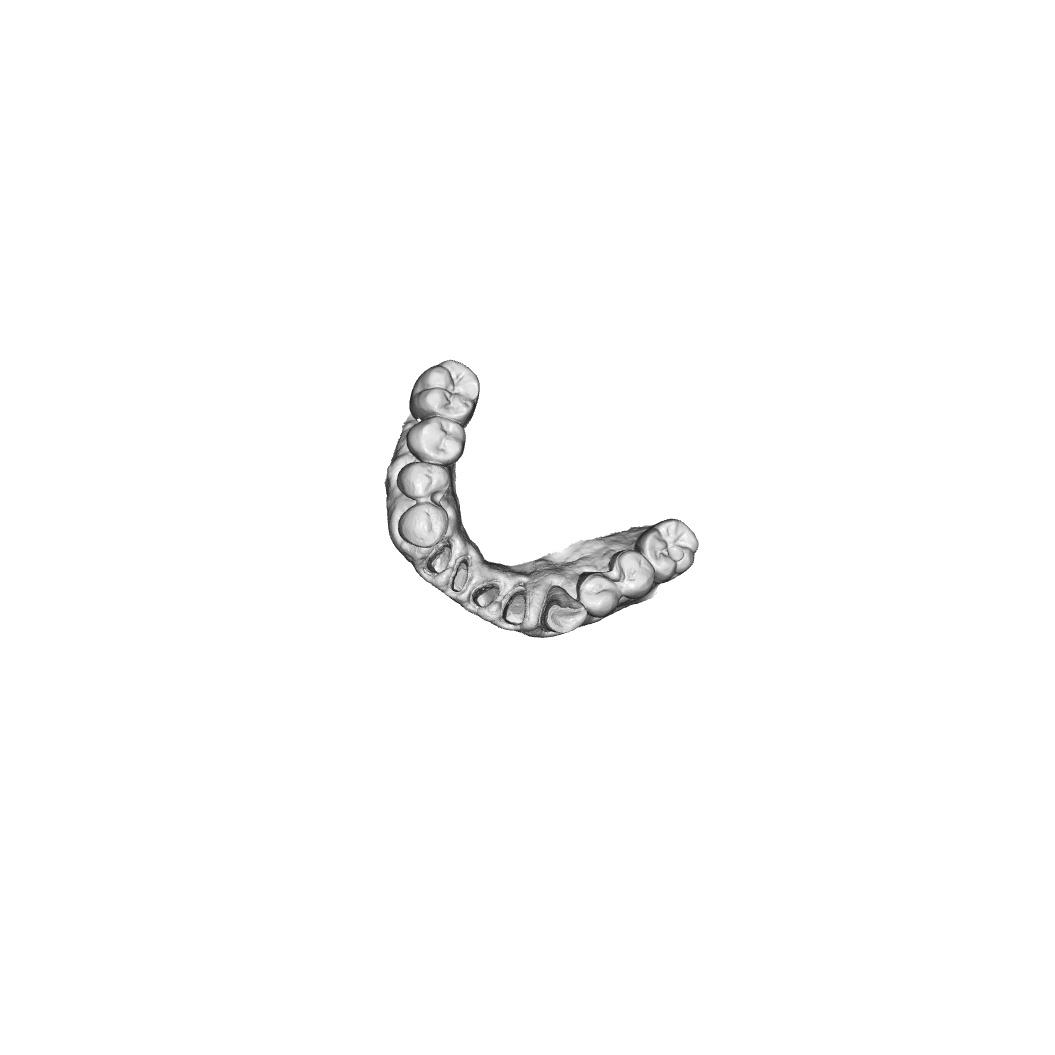canine: (539, 584, 588, 635), (397, 501, 449, 548)
crown: (501, 586, 529, 626), (424, 540, 453, 576), (469, 582, 501, 609), (448, 557, 472, 592)
molar: (408, 358, 481, 429), (634, 518, 700, 584)
premolar: (406, 415, 467, 466), (608, 549, 656, 600), (396, 462, 452, 502), (575, 571, 621, 619)
